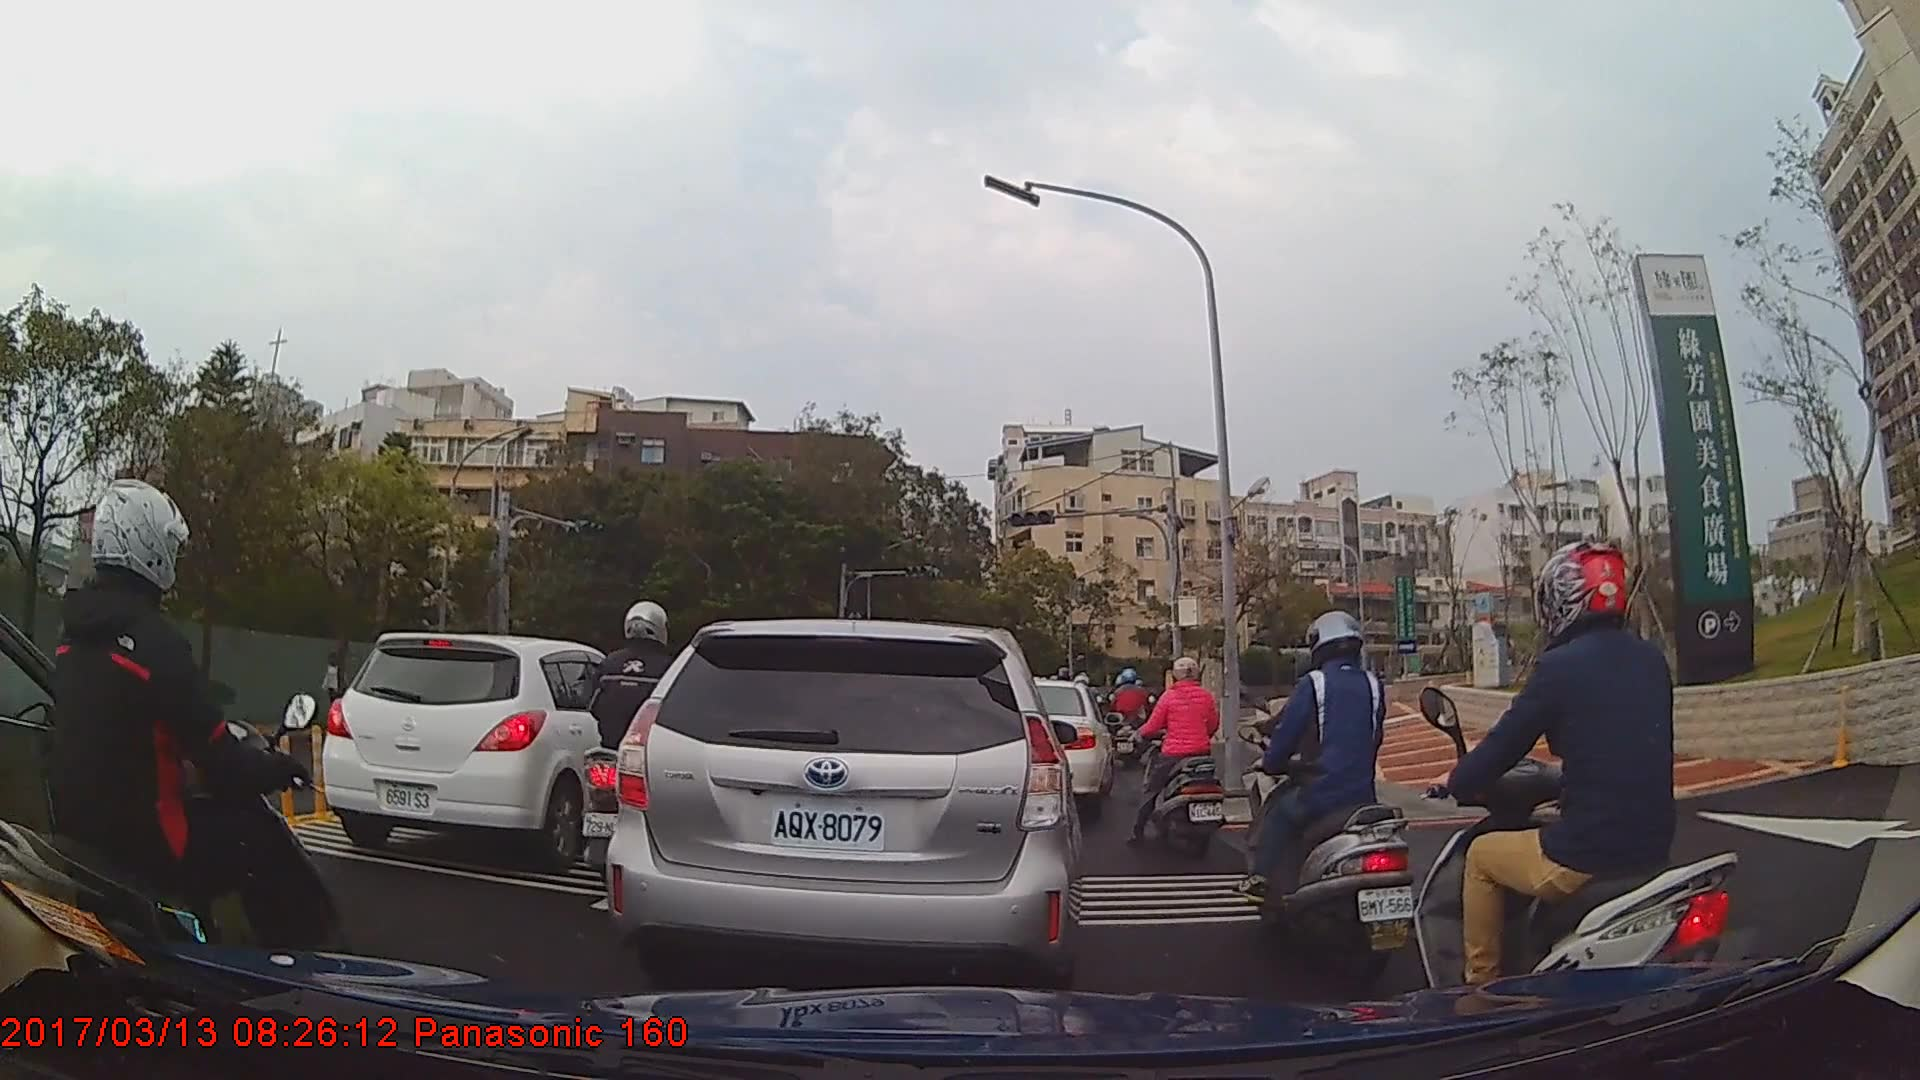pedestrian: (322, 653, 349, 729)
rider: (1, 481, 361, 1044), (1420, 529, 1749, 1062), (1242, 615, 1415, 999), (580, 598, 711, 905), (1132, 657, 1229, 860), (1106, 666, 1151, 767)
vehicle: (605, 616, 1082, 1029), (322, 630, 653, 868), (1007, 677, 1114, 813)
